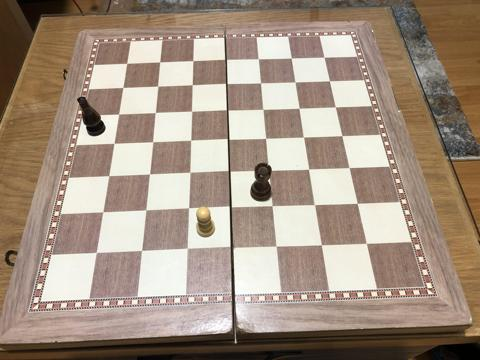xcorner: (318, 50, 330, 63), (324, 74, 336, 87), (185, 78, 198, 90), (257, 103, 270, 115), (145, 136, 158, 148), (142, 168, 155, 180), (285, 51, 297, 63), (252, 52, 264, 64), (219, 53, 231, 65), (186, 54, 198, 66), (153, 55, 165, 67), (120, 56, 132, 68), (289, 75, 301, 87), (255, 76, 267, 88), (220, 77, 232, 89), (151, 79, 163, 91), (116, 80, 128, 92), (330, 101, 342, 113), (294, 102, 306, 114), (221, 104, 233, 116), (185, 105, 197, 117), (148, 106, 160, 118), (112, 107, 124, 119), (336, 130, 348, 142), (298, 131, 310, 143), (260, 132, 272, 144), (222, 133, 234, 145), (184, 134, 196, 146), (107, 137, 119, 149), (344, 162, 356, 174), (304, 163, 316, 175), (264, 164, 276, 176), (223, 166, 235, 178), (183, 167, 195, 179), (102, 170, 114, 182), (352, 198, 364, 210), (310, 199, 322, 211), (267, 201, 279, 213), (225, 202, 237, 214), (182, 203, 194, 215), (139, 205, 151, 217), (96, 206, 108, 218), (361, 238, 373, 250), (316, 239, 328, 251), (271, 241, 283, 253), (226, 243, 238, 255), (181, 244, 193, 256), (135, 246, 147, 258), (90, 247, 102, 259)
